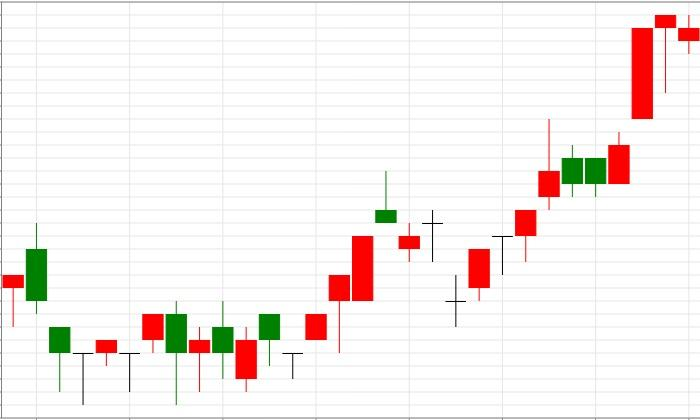hanging_man_fall: (468, 15, 677, 301)
